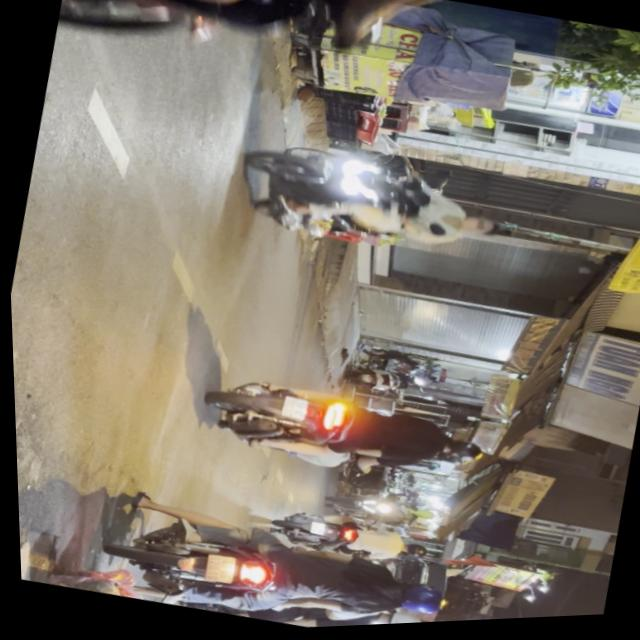helmet: (389, 580, 440, 617), (435, 435, 482, 468), (375, 610, 422, 628)
licenseplate: (56, 0, 640, 152), (94, 479, 454, 637), (224, 122, 513, 284), (193, 361, 491, 505)
motorcyclist: (456, 214, 500, 243)
nohelmet: (199, 554, 234, 586), (277, 396, 306, 424)
